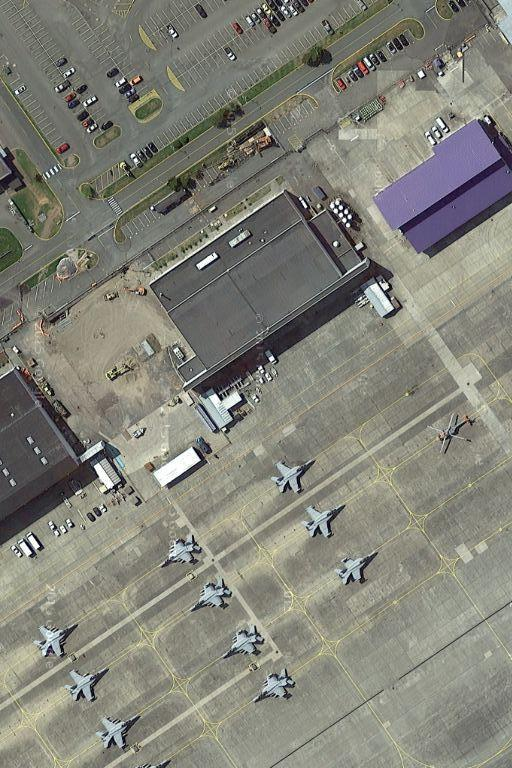F/A-18: (31, 619, 81, 662), (60, 664, 112, 705), (92, 710, 142, 752), (267, 457, 319, 497), (298, 501, 348, 542), (332, 547, 378, 590), (218, 621, 264, 664), (250, 665, 297, 707), (185, 575, 233, 616), (157, 529, 201, 573)
